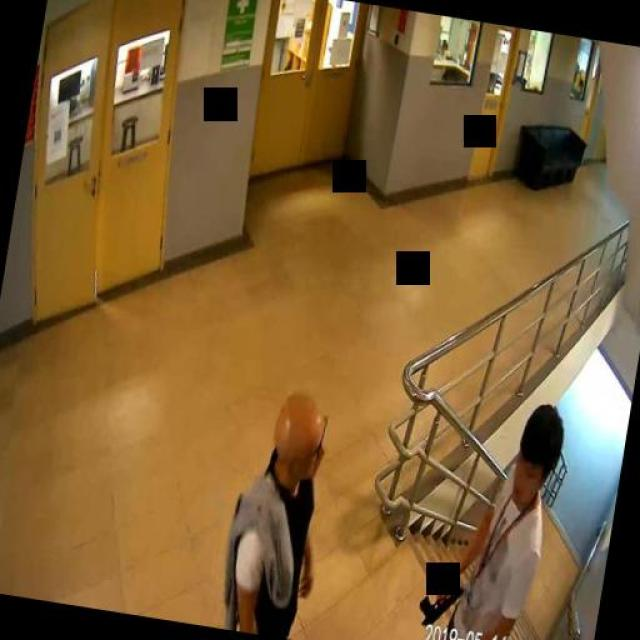gun: (415, 578, 461, 628)
